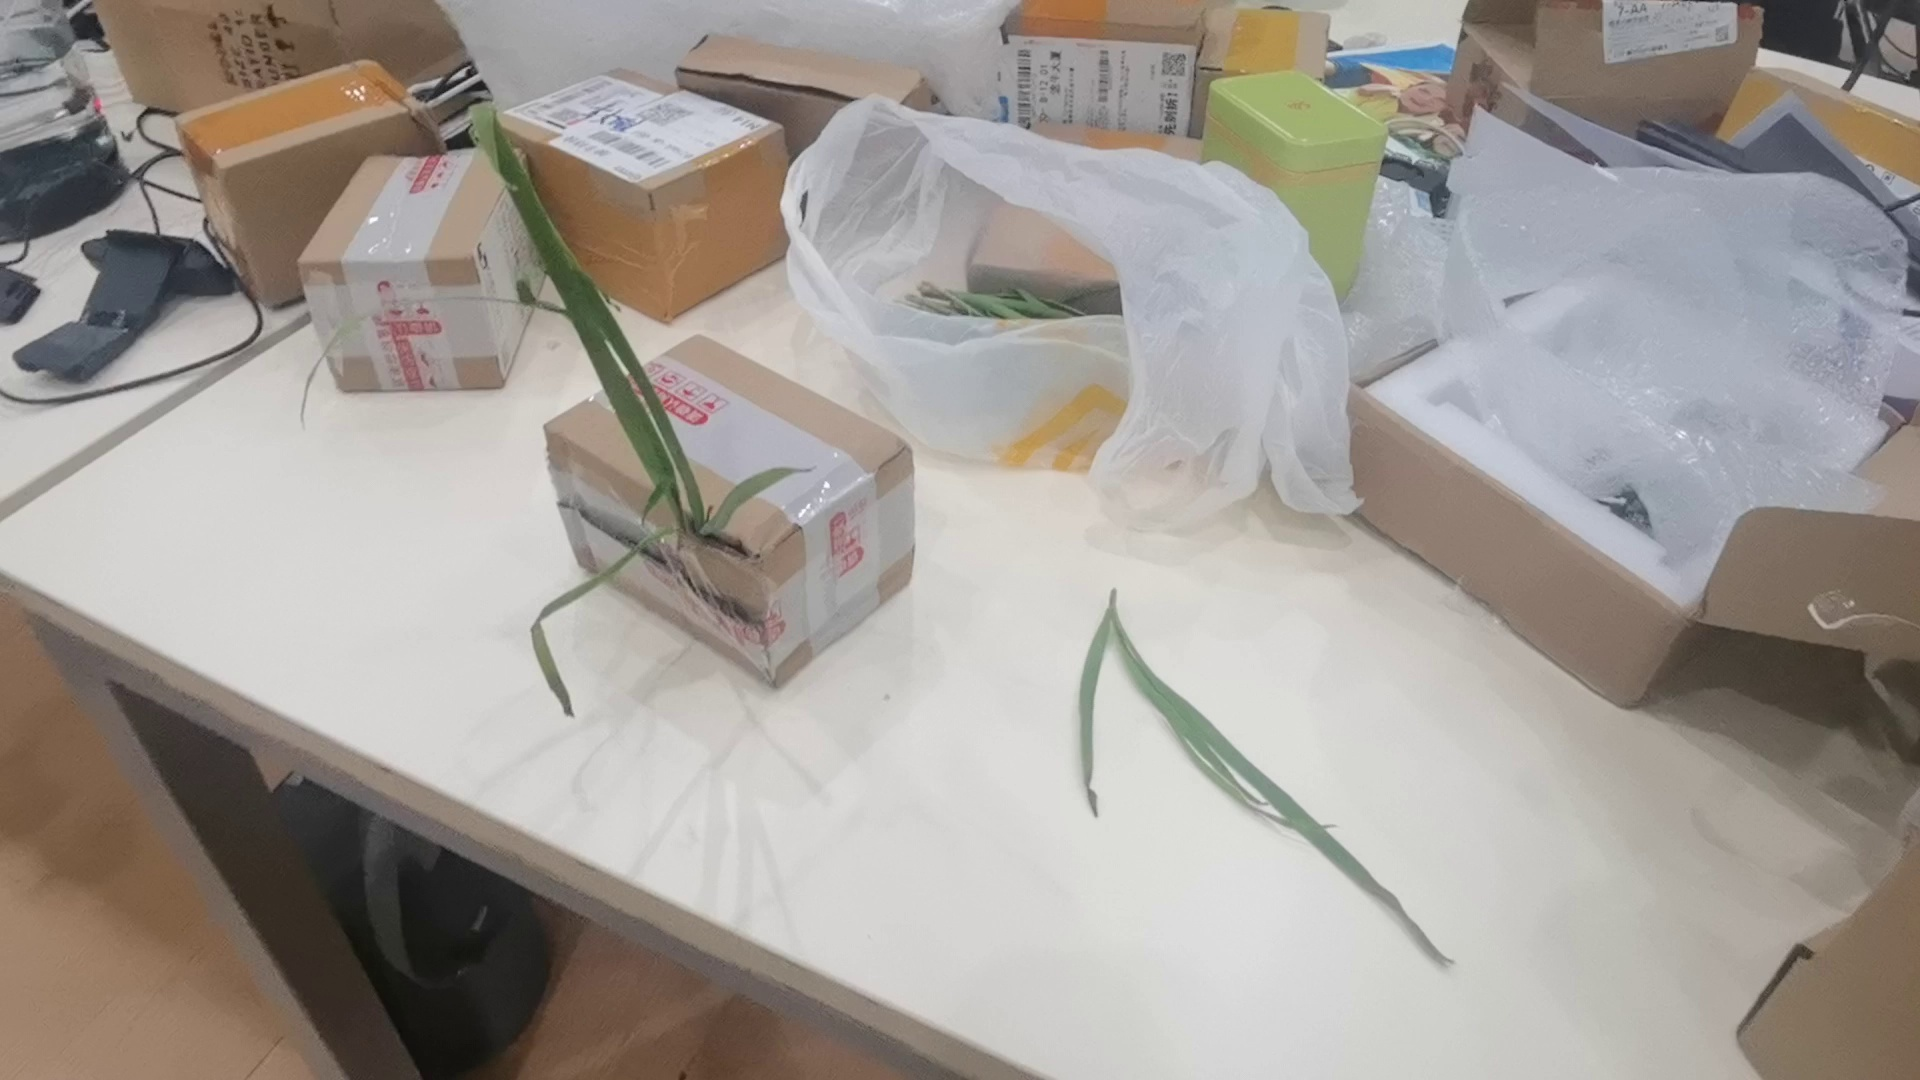chives: (305, 87, 862, 717), (1040, 566, 1481, 977)
